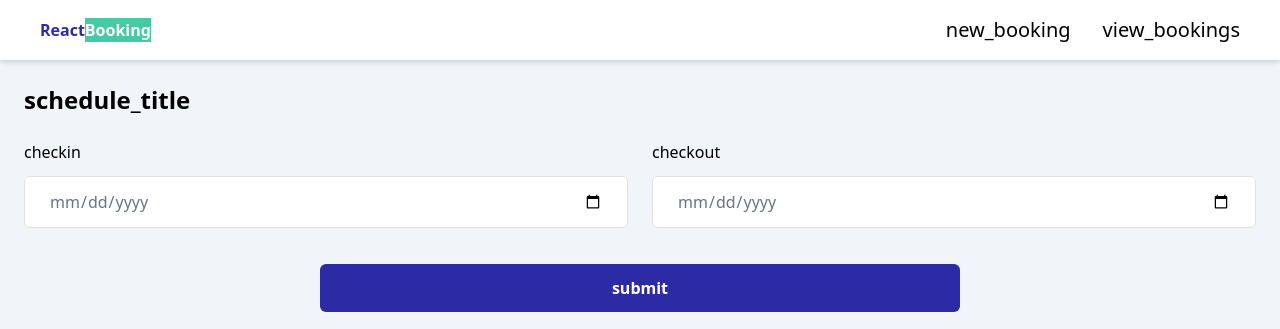
it: Bookings Component › should change screens correctly
This screenshot has width=1280, height=329.
What coordinates should you click on to do the following:
click the button with test id "button__navbar--listing"
I would click on:
 (1171, 30)
Its box is [1103,16,1240,44].
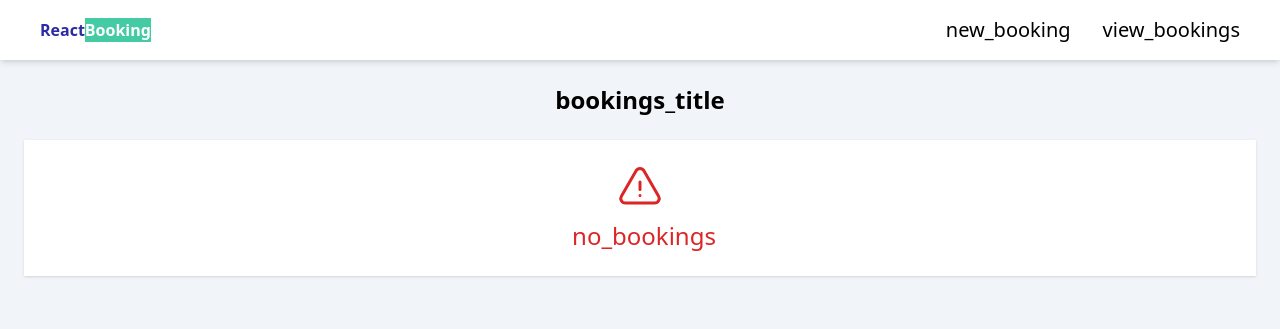
Check: the element with test id "listing__screen" is shown
